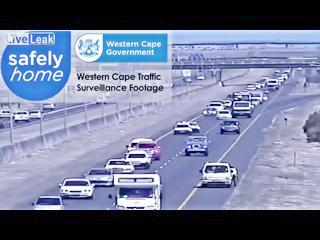Car: (116, 185, 158, 210), (199, 162, 237, 187), (59, 178, 93, 199), (84, 168, 116, 187), (124, 136, 154, 153), (184, 135, 208, 156), (105, 158, 136, 174), (33, 195, 63, 210), (135, 141, 161, 158), (125, 150, 151, 167), (232, 100, 252, 118), (219, 120, 241, 135), (174, 122, 192, 135), (13, 110, 30, 122), (208, 100, 225, 110), (249, 94, 263, 106), (216, 110, 232, 120), (187, 121, 201, 132), (203, 107, 219, 116), (28, 110, 42, 119), (267, 79, 279, 89), (0, 109, 12, 118), (237, 90, 250, 98), (43, 102, 55, 110), (232, 92, 244, 100), (260, 77, 270, 86), (222, 99, 232, 107), (251, 83, 262, 90), (246, 85, 257, 92), (197, 73, 205, 81), (281, 73, 289, 81), (277, 77, 286, 84), (262, 92, 269, 101), (183, 77, 192, 83), (226, 94, 233, 101), (284, 69, 291, 74), (274, 70, 280, 74), (297, 67, 302, 71)
Not Accident: (204, 91, 264, 135), (172, 121, 210, 157), (122, 136, 161, 168)
